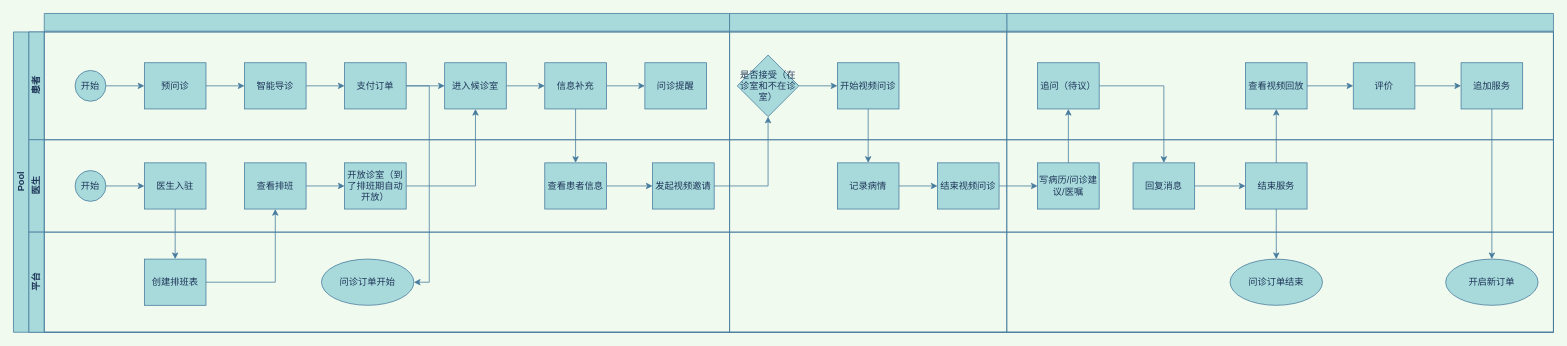
Image size: 1567x346. Some labels were removed from this diagram. Here are the shapes that lost their labels. From the top down, the centre of each, then its label:
[387,172]: 问诊前
[868,172]: 问诊中
[1279,172]: 问诊后
